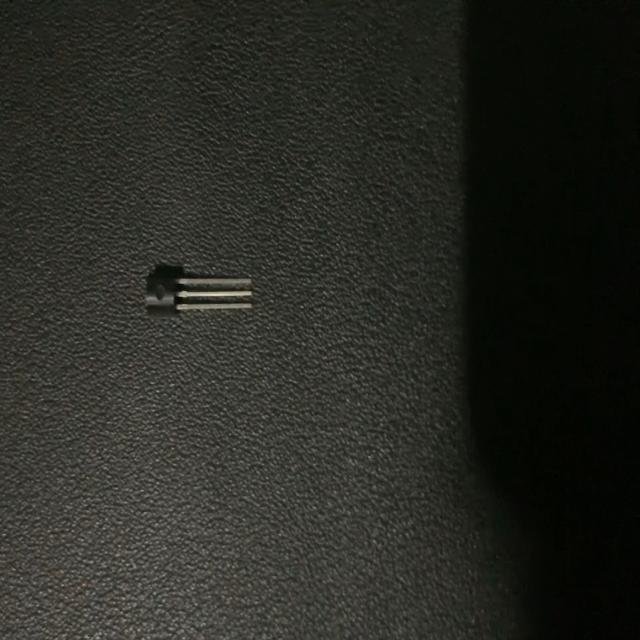BJT: (141, 260, 256, 324)
